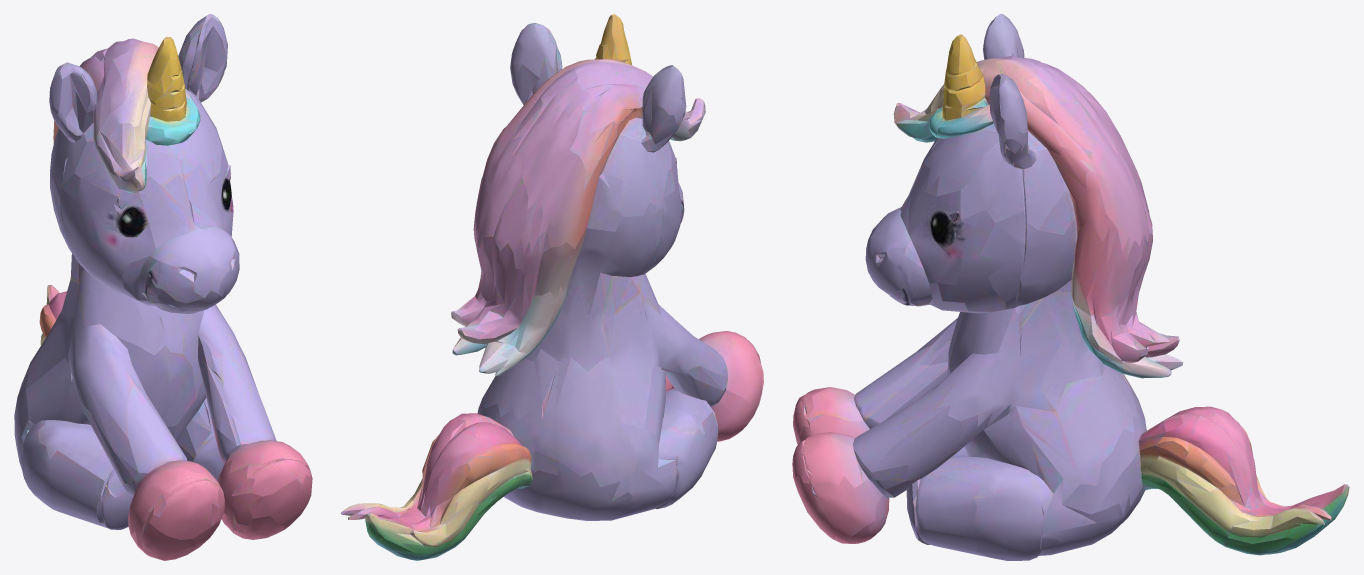
The model's file is unicorn.glb.
3 renders of one model, left to right at view 1: azimuth 30°, elevation 25°; view 2: azimuth 150°, elevation 25°; view 3: azimuth 270°, elevation 25°, orthographic. The views are drawn at different scales.
Parts seen in each view (by area): view 1: mesh_node; view 2: mesh_node; view 3: mesh_node.
Part boxes in pixels (box(x1,y1,x2,y2)): mesh_node: box(14, 14, 312, 560); mesh_node: box(341, 14, 763, 560); mesh_node: box(792, 14, 1349, 560).
Bounding box in the file's own units: 0.9044 × 1.83 × 1.9.
Materials: 1 (1 with a texture image).
